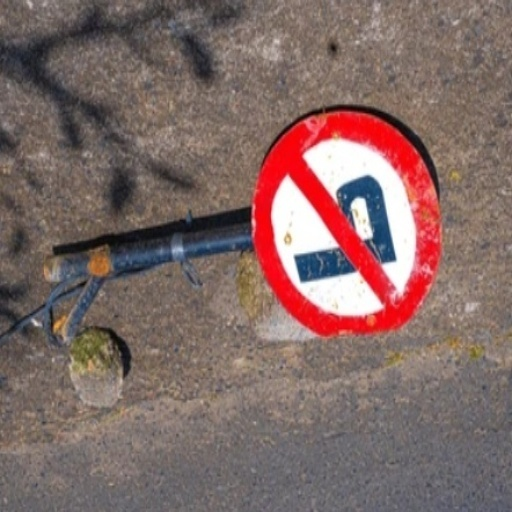No parking: (240, 95, 450, 373)
